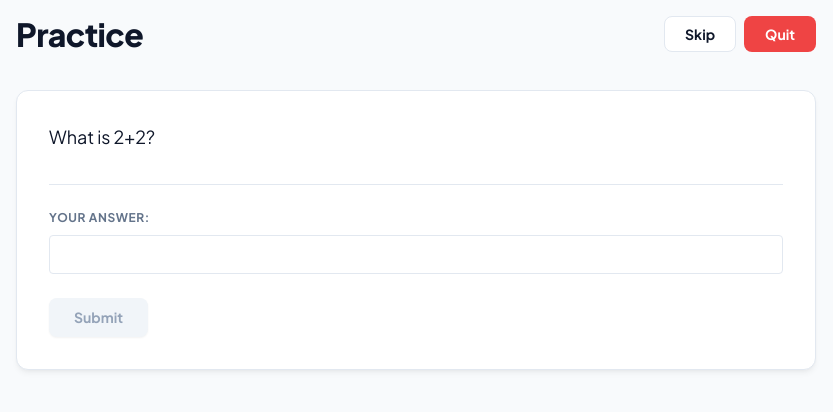
Test: ActivePracticePage › renders AI Explain button when status is ready
The image size is (833, 412).
Check: the button with test id "submit-button" is shown, box [49, 298, 148, 337]
Type "4" into the field at (416, 254), box [49, 235, 783, 274]
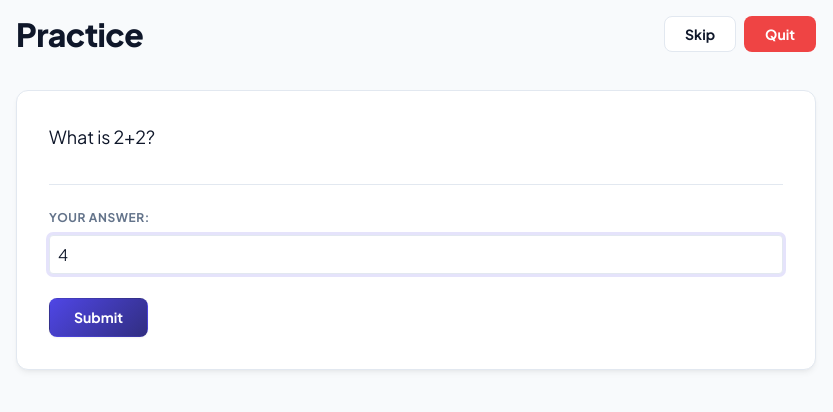
Click the button with test id "submit-button" at (98, 317), box [49, 298, 148, 337]
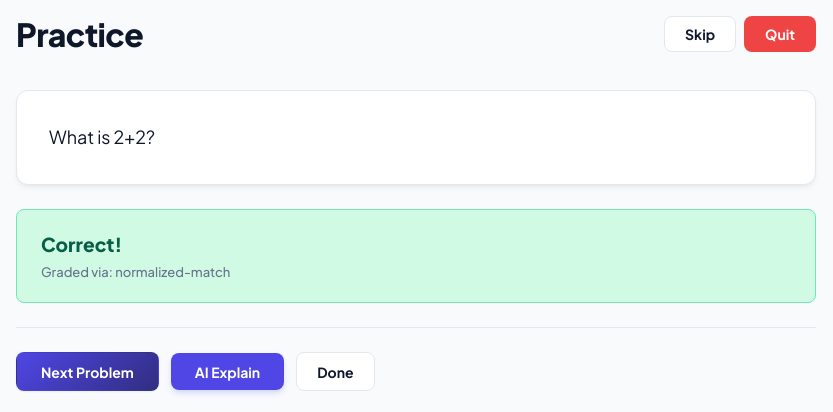
Check: the button with test id "explain-button" reads "AI Explain", box [171, 353, 284, 390]
Check: the button with test id "explain-button" is enabled, box [171, 353, 284, 390]
